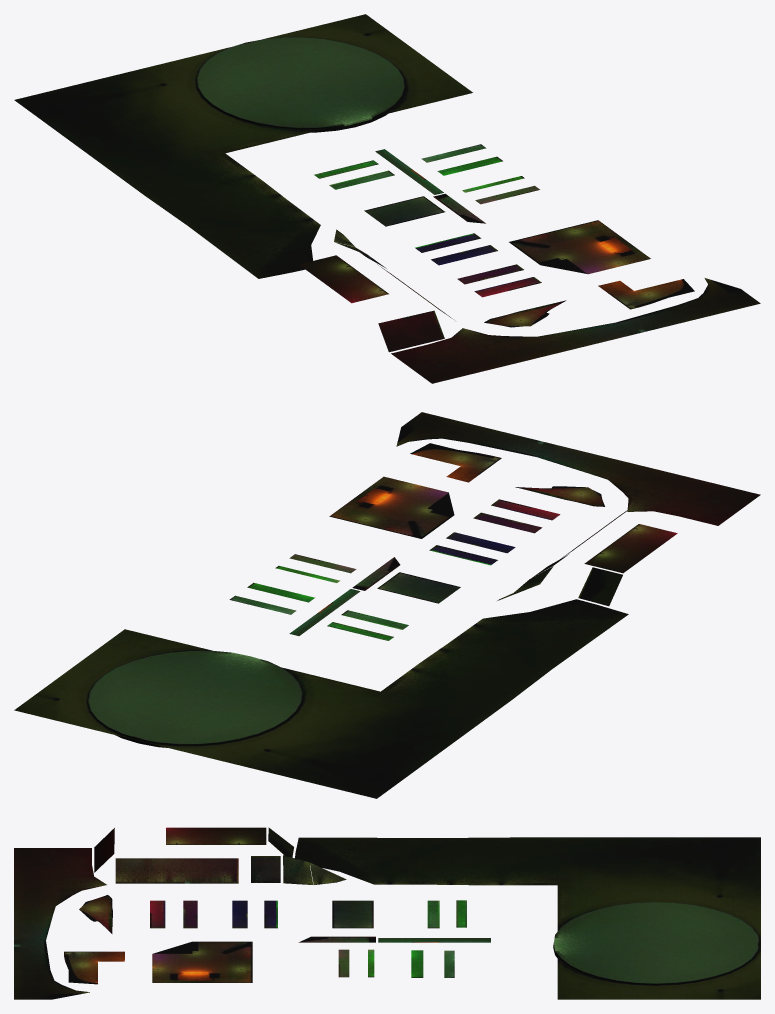
File: Grass-transformed.glb
3 views of the same model, one above another, from view 1: azimuth 30°, elevation 25°; view 2: azimuth 150°, elevation 25°; view 3: azimuth 270°, elevation 25° (orthographic). The views are drawn at different scales.
Visible parts, largest first — view 1: Plane.058, Cylinder.003, Plane.057, Plane.008, Plane.023, Plane.021, Plane.017, Plane.005, Plane.016; view 2: Plane.058, Cylinder.003, Plane.057, Plane.008, Plane.023, Plane.017, Plane.005, Plane.022, Plane.016, Plane.010; view 3: Plane.058, Cylinder.003, Plane.057, Plane.008, Plane.012, Plane.023, Plane.017, Plane.005, Plane.018, Plane.016, Plane.019, Plane.010 (+11 smaller).
Boxes of the visible parts, x1=… form: Plane.058: x1=14, y1=14, x2=472, y2=278; Cylinder.003: x1=196, y1=37, x2=404, y2=132; Plane.057: x1=391, y1=278, x2=760, y2=383; Plane.008: x1=509, y1=220, x2=650, y2=274; Plane.023: x1=299, y1=255, x2=388, y2=303; Plane.021: x1=378, y1=310, x2=444, y2=352; Plane.017: x1=598, y1=279, x2=694, y2=309; Plane.005: x1=364, y1=196, x2=444, y2=226; Plane.016: x1=484, y1=300, x2=566, y2=327; Plane.058: x1=14, y1=599, x2=628, y2=798; Cylinder.003: x1=87, y1=650, x2=302, y2=747; Plane.057: x1=396, y1=412, x2=760, y2=525; Plane.008: x1=329, y1=476, x2=454, y2=538; Plane.023: x1=584, y1=524, x2=677, y2=573; Plane.017: x1=410, y1=443, x2=501, y2=482; Plane.005: x1=377, y1=572, x2=460, y2=603; Plane.022: x1=578, y1=567, x2=622, y2=606; Plane.016: x1=515, y1=486, x2=604, y2=506; Plane.010: x1=289, y1=589, x2=360, y2=635; Plane.058: x1=295, y1=837, x2=760, y2=999; Cylinder.003: x1=553, y1=902, x2=759, y2=984; Plane.057: x1=14, y1=848, x2=106, y2=999; Plane.008: x1=152, y1=941, x2=252, y2=982; Plane.012: x1=115, y1=858, x2=238, y2=883; Plane.023: x1=166, y1=827, x2=266, y2=844; Plane.017: x1=64, y1=951, x2=124, y2=984; Plane.005: x1=332, y1=900, x2=373, y2=928; Plane.018: x1=251, y1=856, x2=280, y2=882; Plane.016: x1=79, y1=895, x2=112, y2=933; Plane.019: x1=283, y1=855, x2=313, y2=884; Plane.010: x1=378, y1=938, x2=490, y2=942.
Bounding box in the file's own units: 3768 × 253 × 7331.
2 materials, 2 textured.
